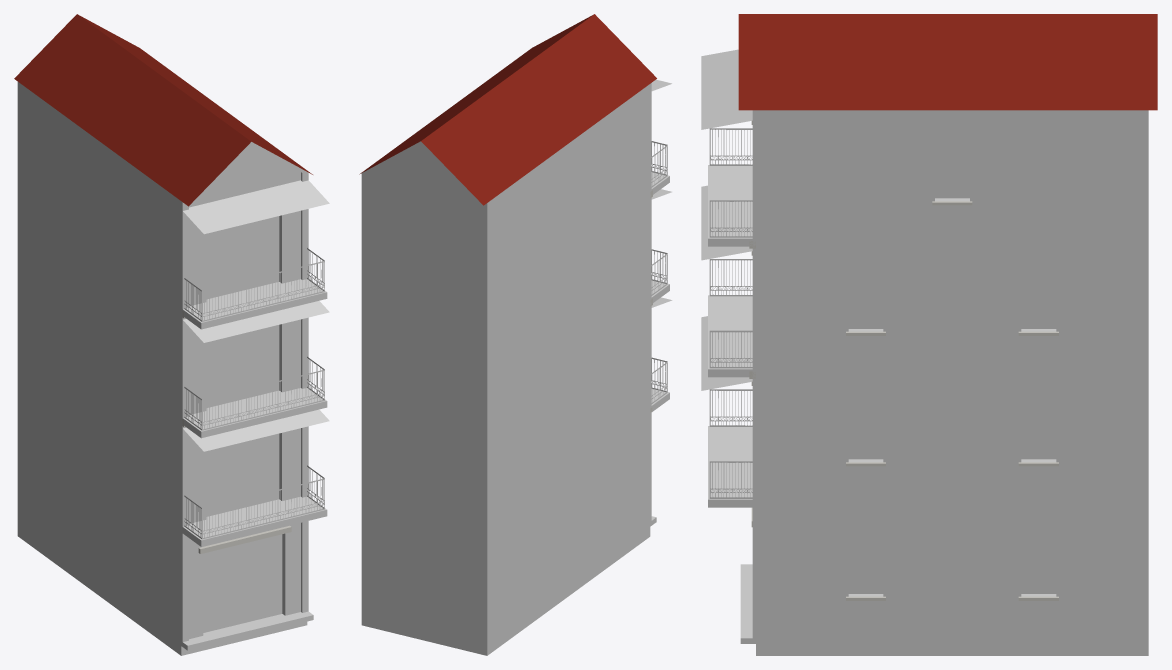
3 views of the same model, side by side, from view 1: azimuth 30°, elevation 25°; view 2: azimuth 150°, elevation 25°; view 3: azimuth 270°, elevation 25° (orthographic). The views are drawn at different scales.
Visible parts, largest first — view 1: TH_D09_R_20_LOD0; view 2: TH_D09_R_20_LOD0; view 3: TH_D09_R_20_LOD0.
Boxes of the visible parts, x1=… form: TH_D09_R_20_LOD0: x1=14, y1=14, x2=329, y2=655; TH_D09_R_20_LOD0: x1=359, y1=14, x2=672, y2=655; TH_D09_R_20_LOD0: x1=701, y1=14, x2=1157, y2=655.
Size of what is drawn, in the model's own units: 4.08 by 15.3 by 10.45.
